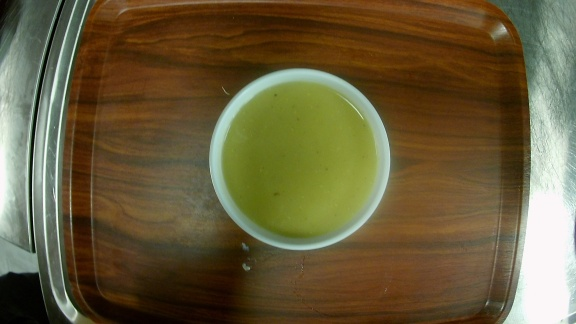mercimek: (204, 64, 392, 254)
